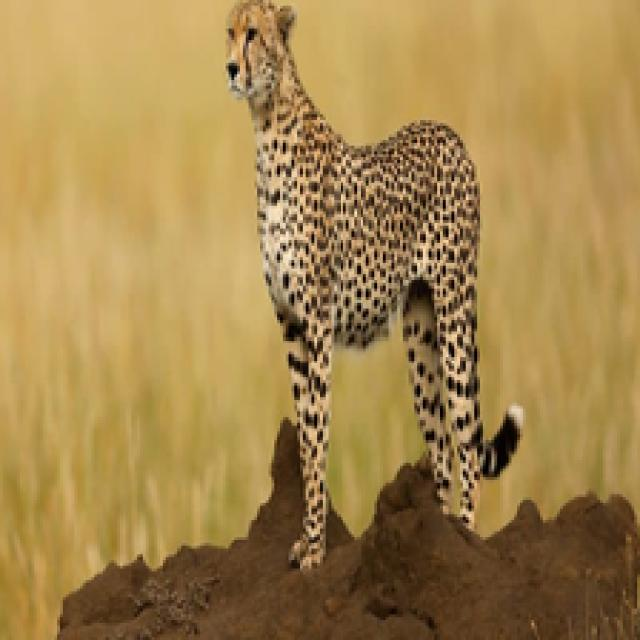cheetah: (211, 0, 525, 602)
